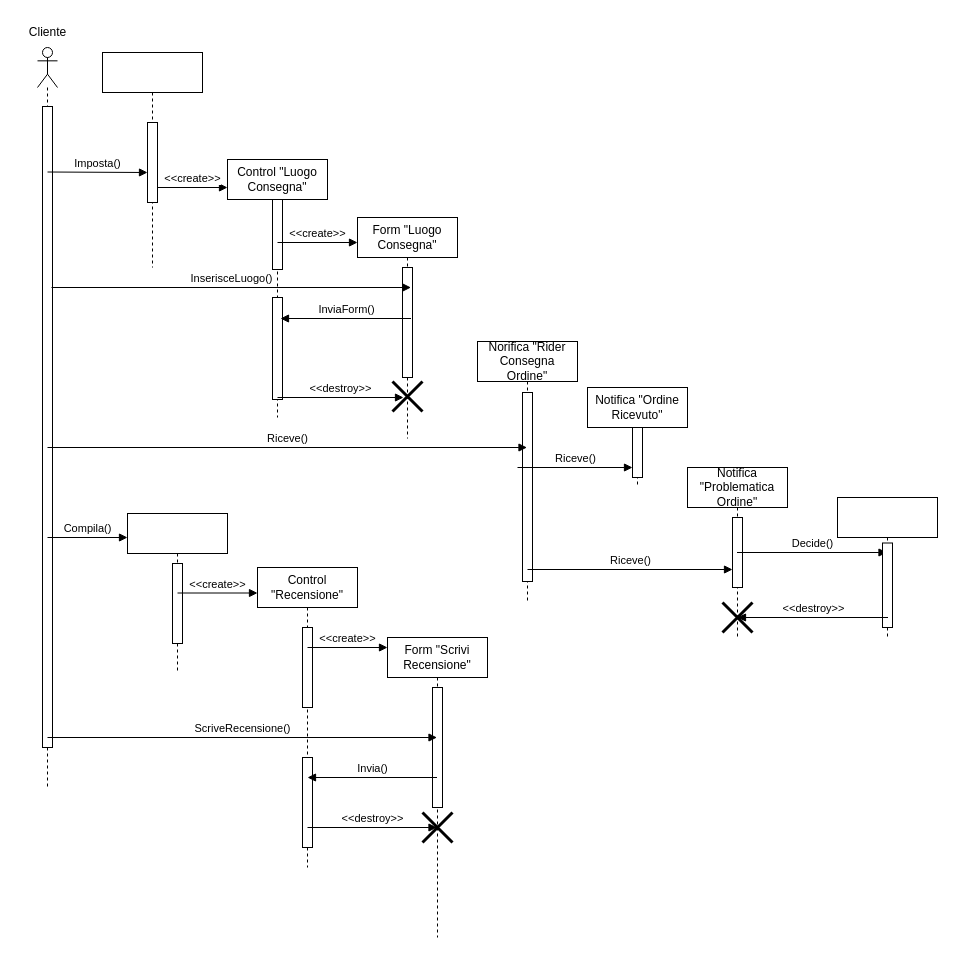
The diagram is 955 pixels wide and 955 high, and some of its shapes have lost their labels. Here are the shapes that lost their labels. From the top down, the centre of each, then its label:
(x=152, y=160): Bottone "Luogo Consegna"
(x=887, y=567): Bottone "Rimborso"
(x=177, y=593): Bottone "Scrivi Recensione"
